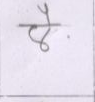ai_matra: (37, 2, 55, 23)
